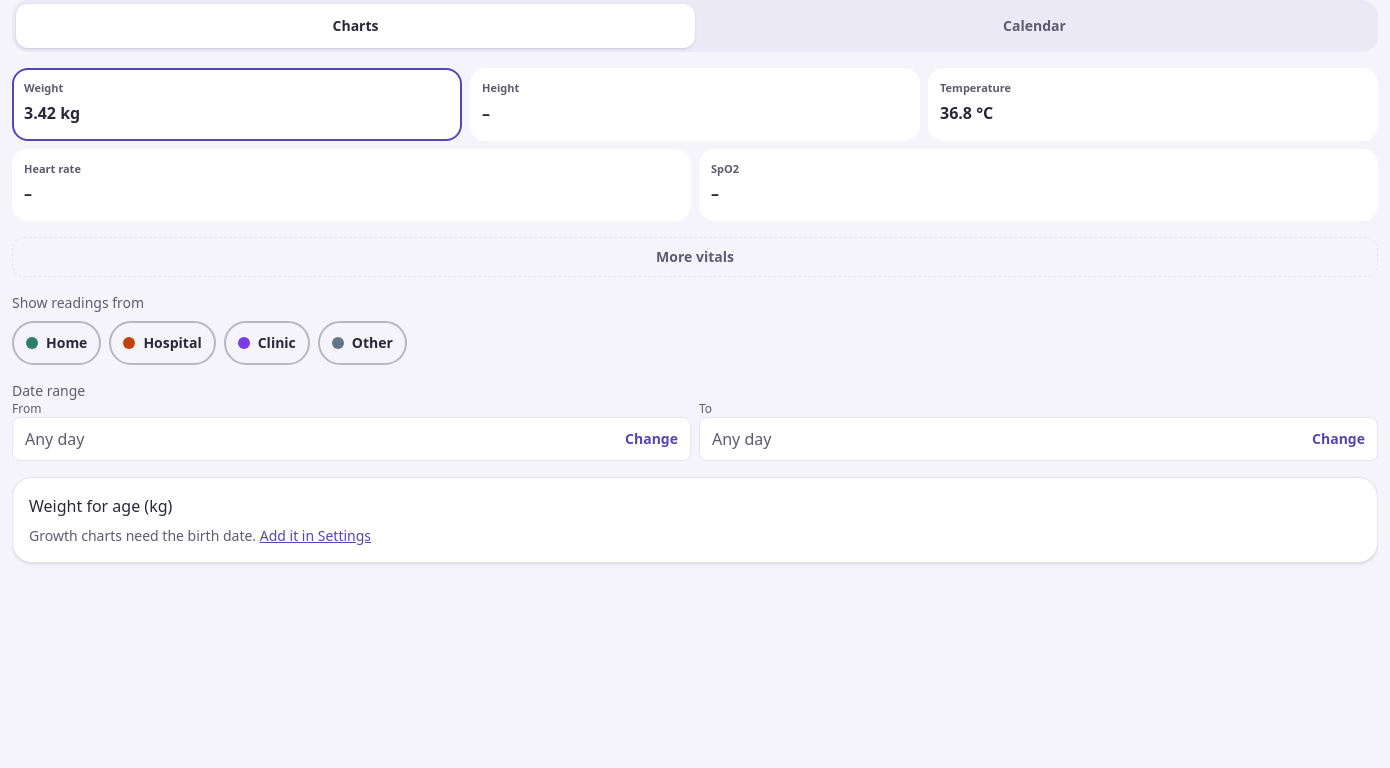
viewer sees no buttons
This screenshot has width=1390, height=768.
Step 1. Click the radio button labelled "Calendar" → click(1034, 26), box [695,4,1374,48]
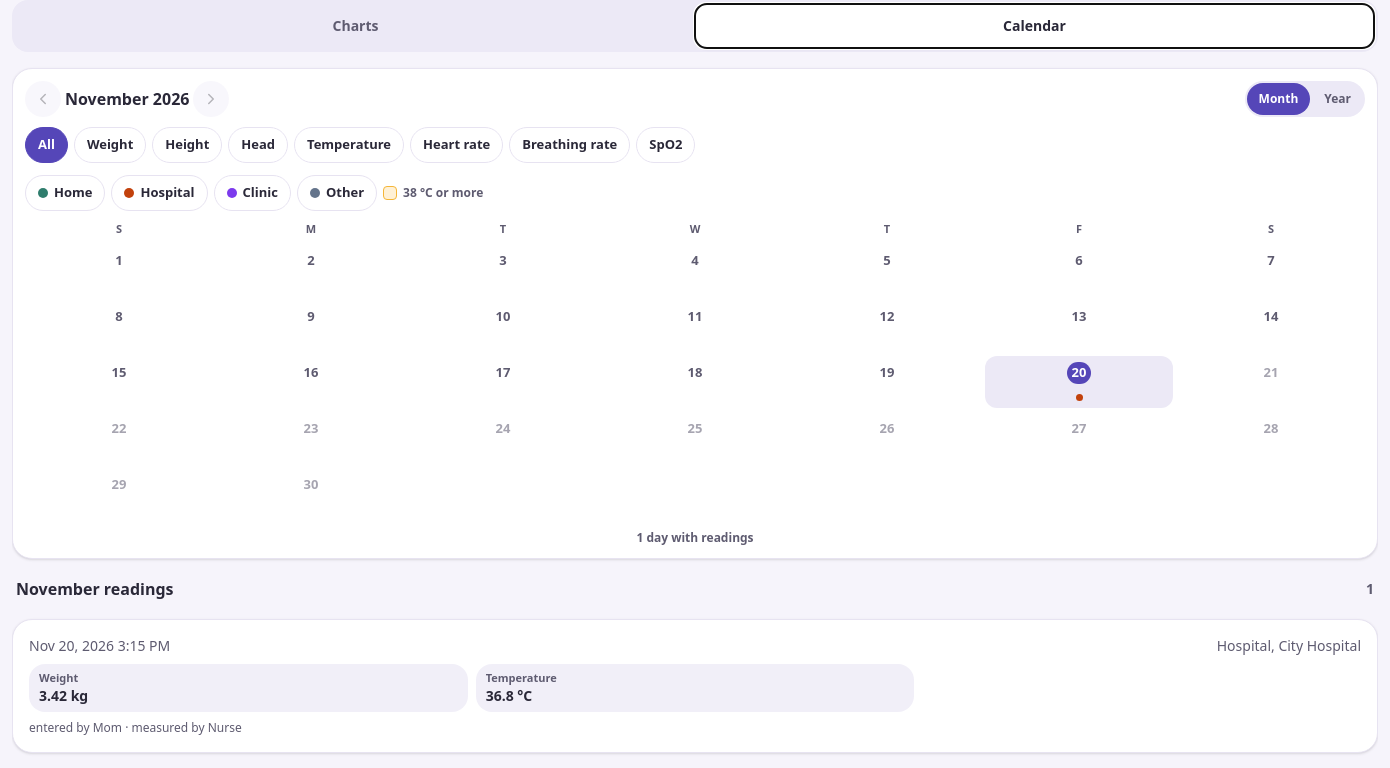
Expected: the text "Hospital, City Hospital" is shown, [1217,636,1361,656]
